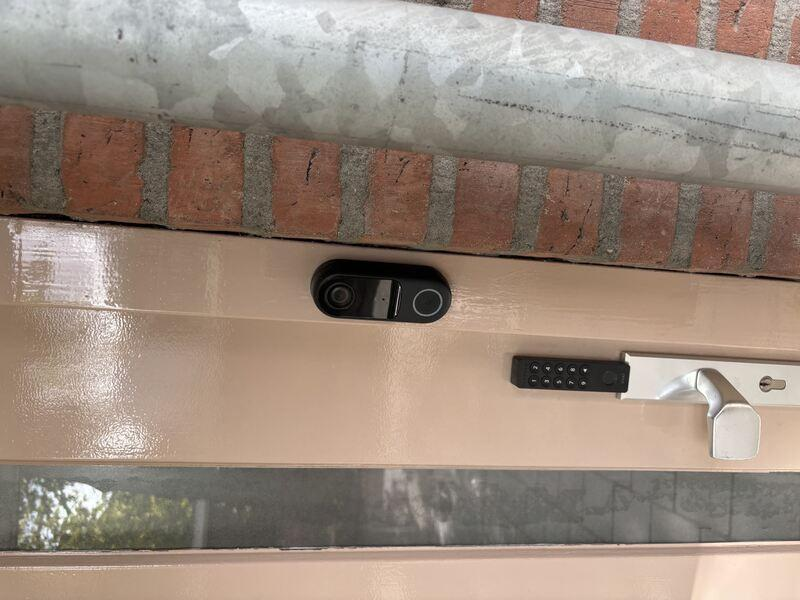doorbell: (266, 293, 344, 456)
